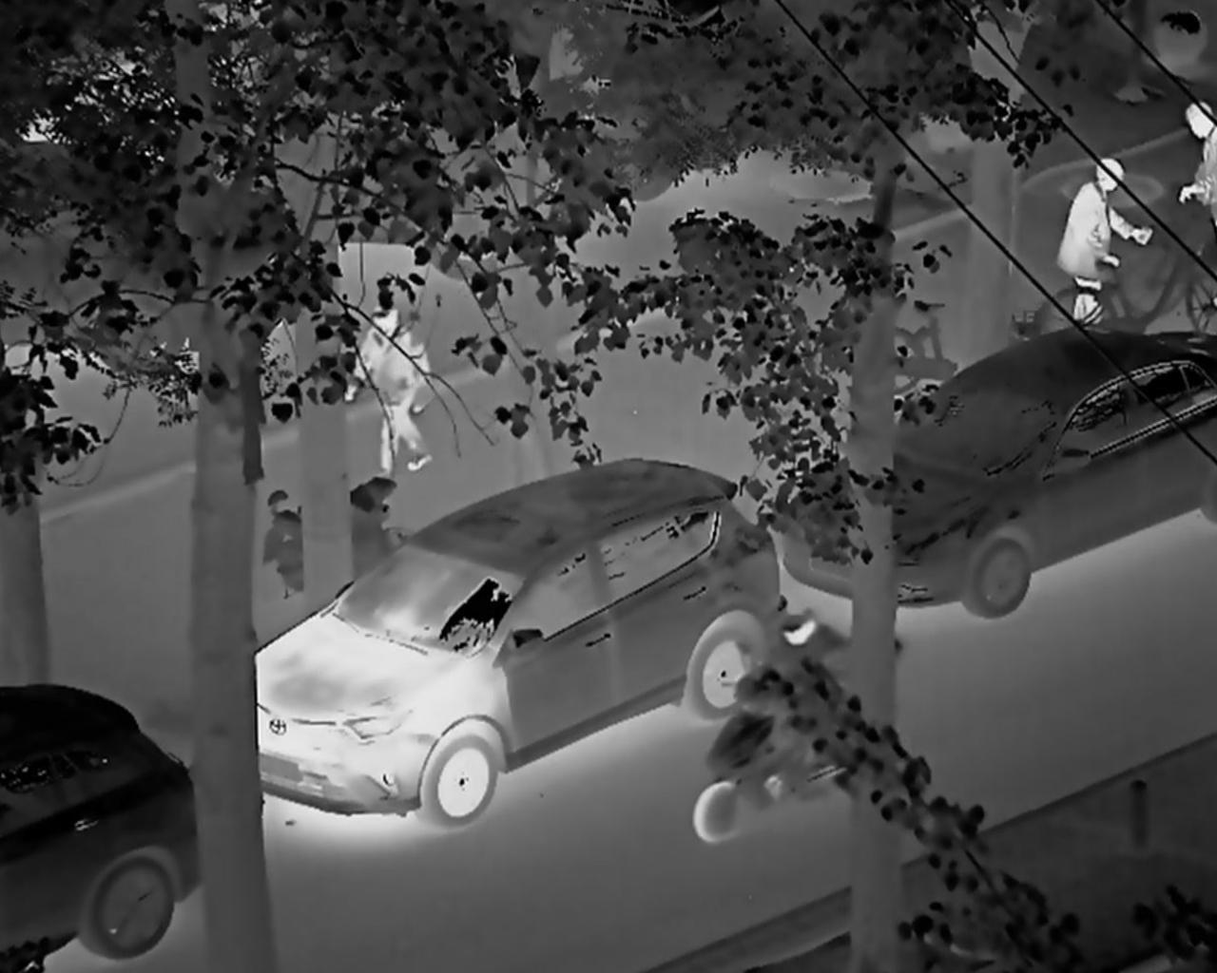person: (678, 597, 845, 841), (1045, 156, 1150, 329), (348, 289, 433, 488), (1174, 100, 1217, 242)
